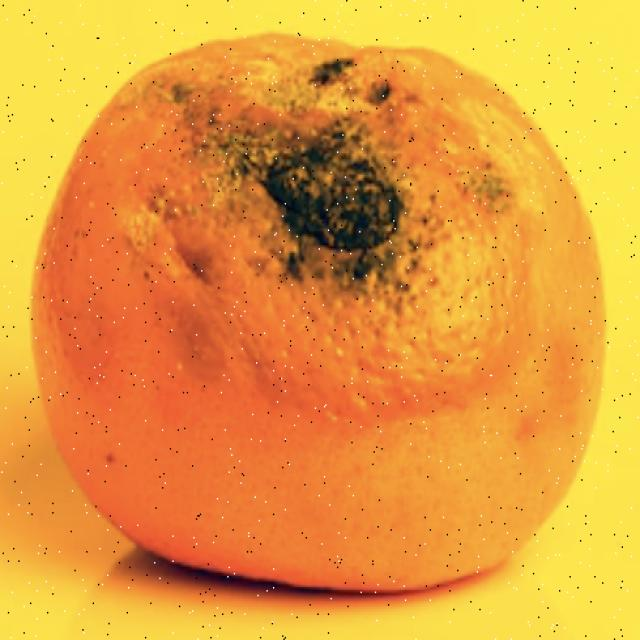Organik: (14, 12, 616, 611)
